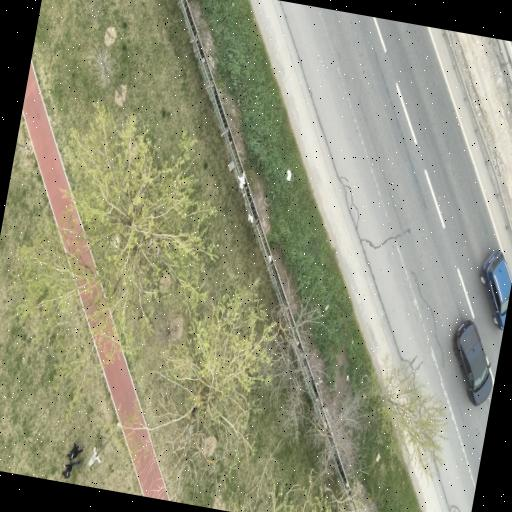car: (453, 320, 492, 405), (480, 250, 511, 328)
person: (67, 440, 83, 460), (62, 460, 79, 478)
